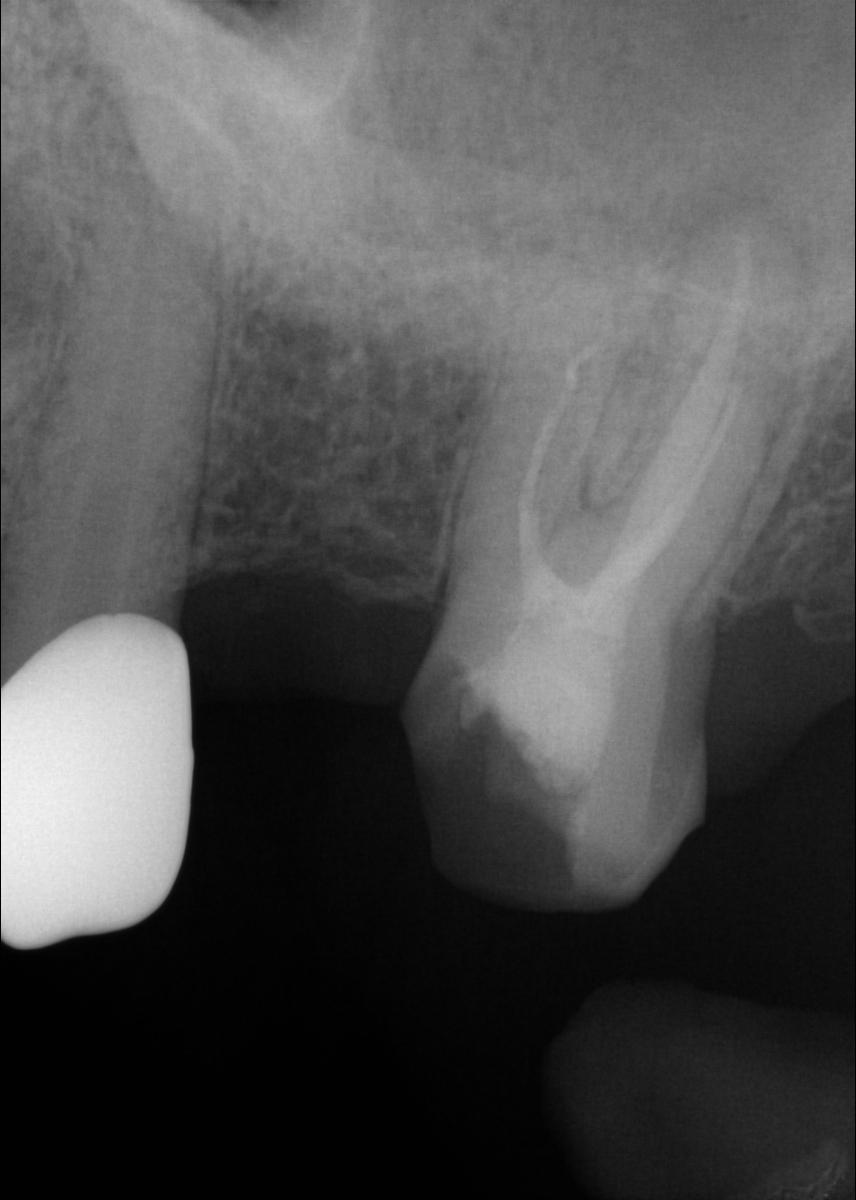Furcation Involvement: (654, 158, 827, 282)
